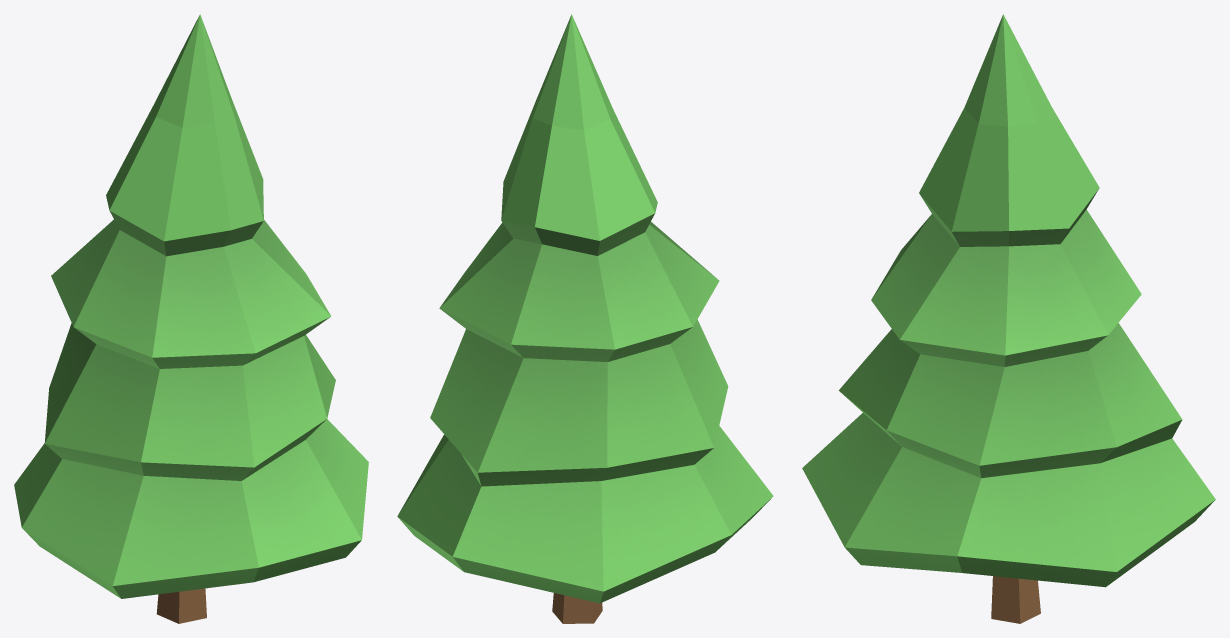
File: Fir_Tree_m_04_LOD.fbx
The picture shows the model from 3 angles, left to right: view 1: azimuth 30°, elevation 25°; view 2: azimuth 150°, elevation 25°; view 3: azimuth 270°, elevation 25°; orthographic projection.
Parts seen in each view (by area): view 1: Fir_Tree_m_04_LOD0; view 2: Fir_Tree_m_04_LOD0; view 3: Fir_Tree_m_04_LOD0.
Boxes of the visible parts, left/top/right/bottom form: Fir_Tree_m_04_LOD0: left=14, top=14, right=368, bottom=623; Fir_Tree_m_04_LOD0: left=397, top=14, right=773, bottom=623; Fir_Tree_m_04_LOD0: left=802, top=14, right=1215, bottom=623.
Size of what is drawn, in the model's own units: 373 by 677 by 420.
